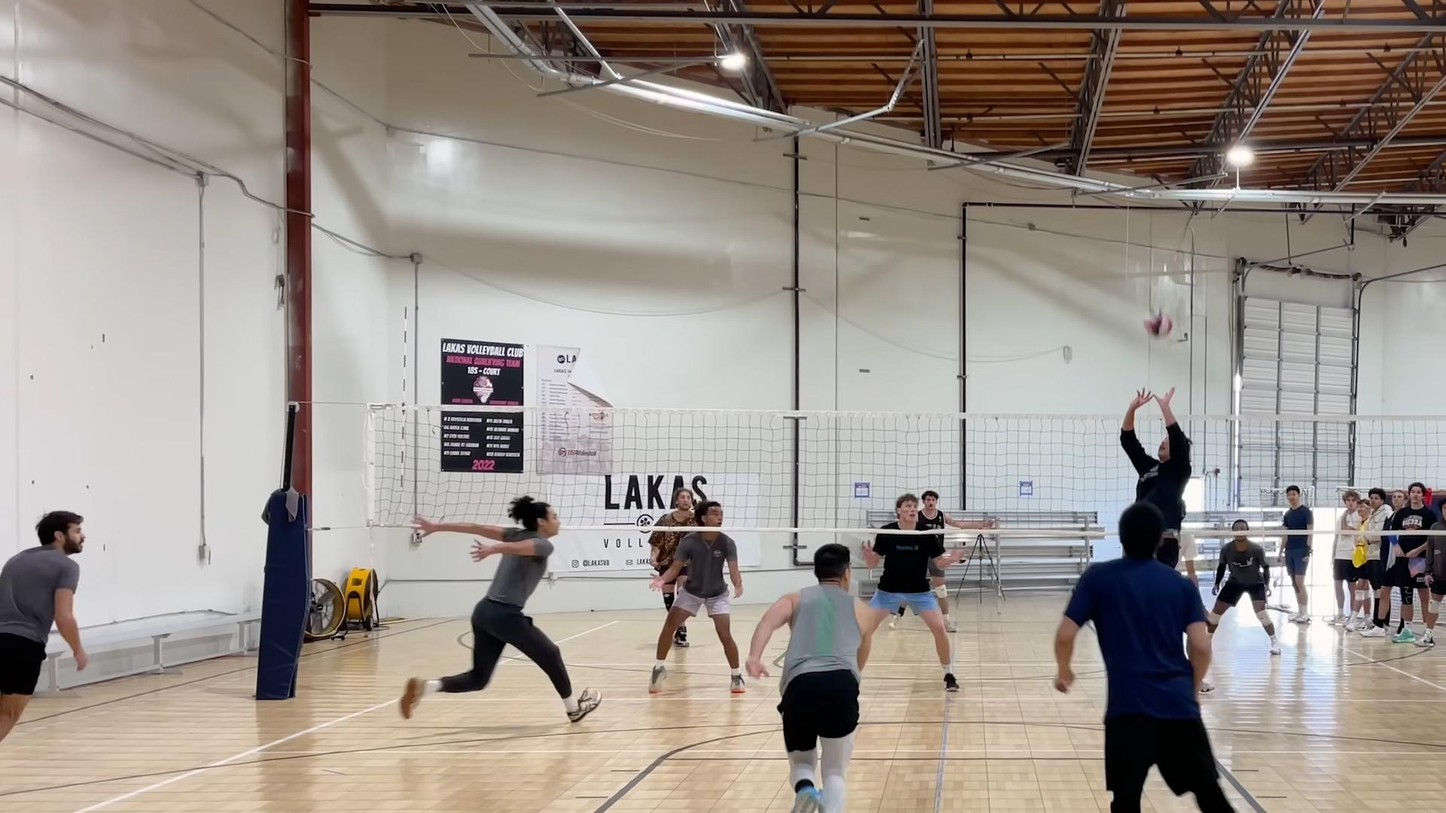alzata: (1084, 380, 1235, 761)
